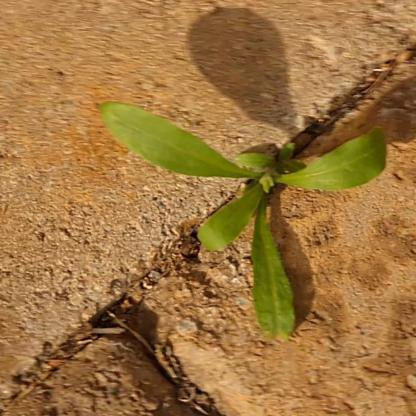Weeds: (99, 97, 388, 347)
